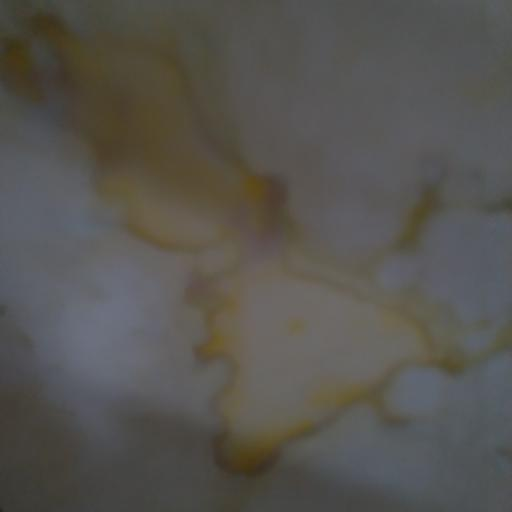algae: (33, 12, 497, 486)
